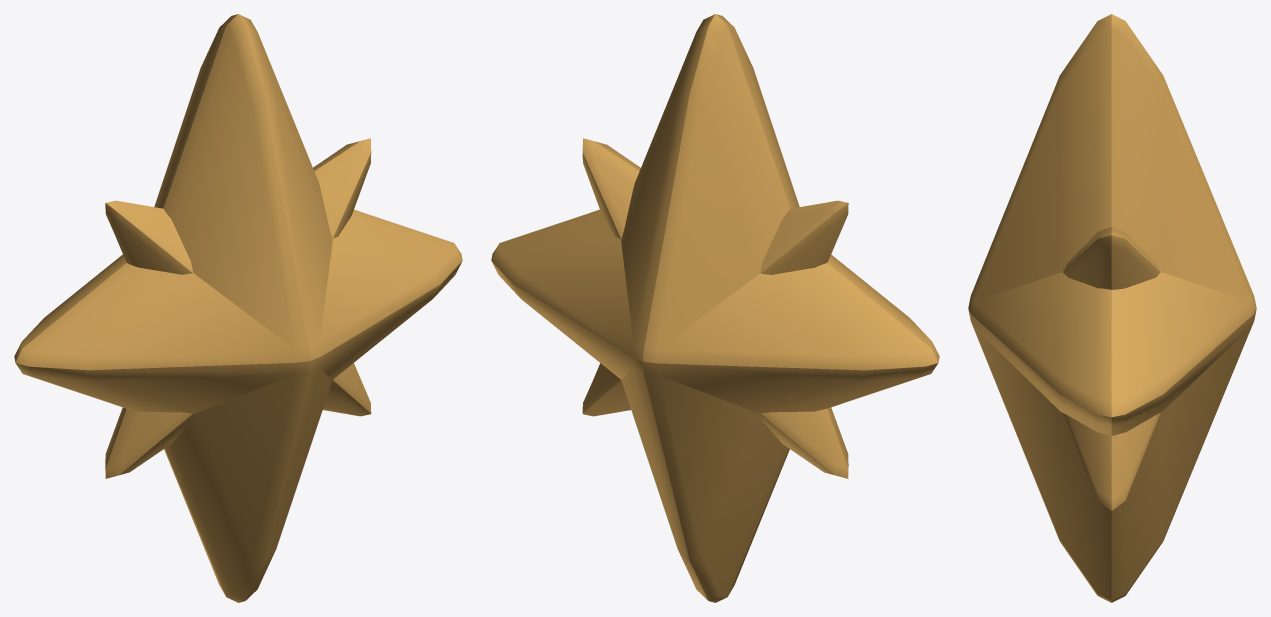
The model's file is Crystal_Star_fbx.fbx.
3 renders of one model, left to right at view 1: azimuth 30°, elevation 25°; view 2: azimuth 150°, elevation 25°; view 3: azimuth 270°, elevation 25°, orthographic.
Parts seen in each view (by area): view 1: Crystal_Star; view 2: Crystal_Star; view 3: Crystal_Star.
Part boxes in pixels (bbox=[...]): Crystal_Star: bbox=[14, 14, 462, 602]; Crystal_Star: bbox=[491, 14, 939, 602]; Crystal_Star: bbox=[968, 14, 1256, 602].
Size of the model in its own units: 33.08 by 41.73 by 18.53.
